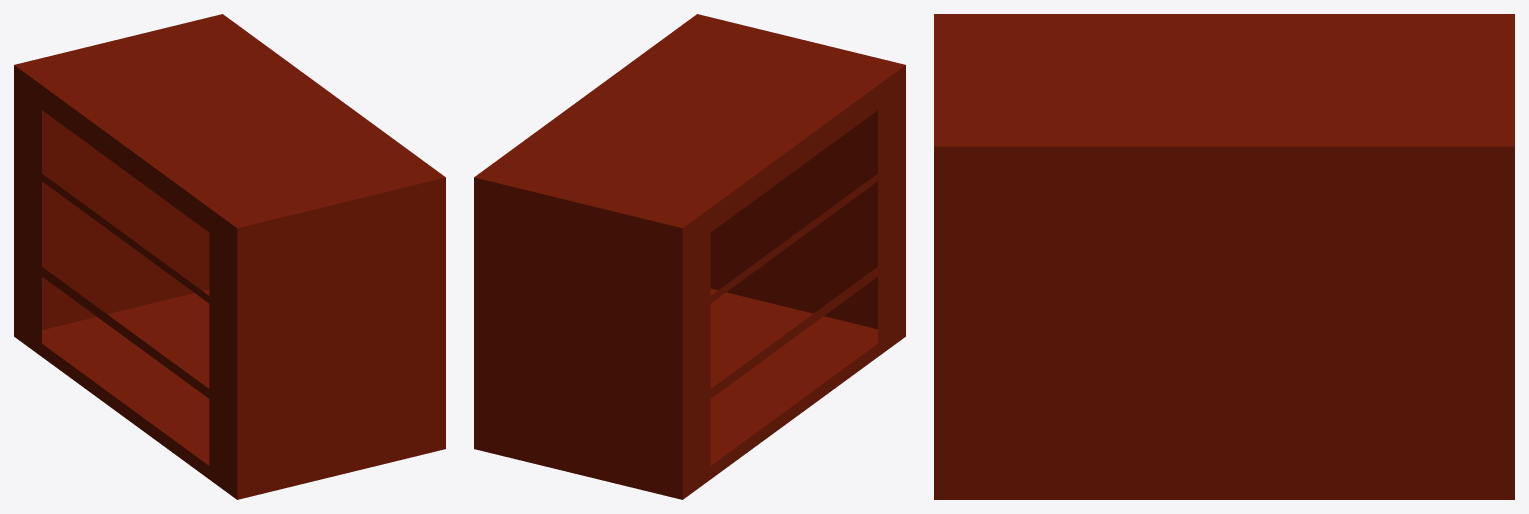
Rendered from m_Dresser.FBX.
The picture shows the model from 3 angles, left to right: view 1: azimuth 30°, elevation 25°; view 2: azimuth 150°, elevation 25°; view 3: azimuth 270°, elevation 25°; orthographic projection. The views are drawn at different scales.
Parts seen in each view (by area): view 1: Dresser; view 2: Dresser; view 3: Dresser.
Part boxes in pixels (left/top/right/bottom): Dresser: left=14, top=14, right=445, bottom=499; Dresser: left=474, top=14, right=905, bottom=499; Dresser: left=934, top=14, right=1514, bottom=499.
Size of the model in its own units: 40.14 by 74.36 by 49.92.
